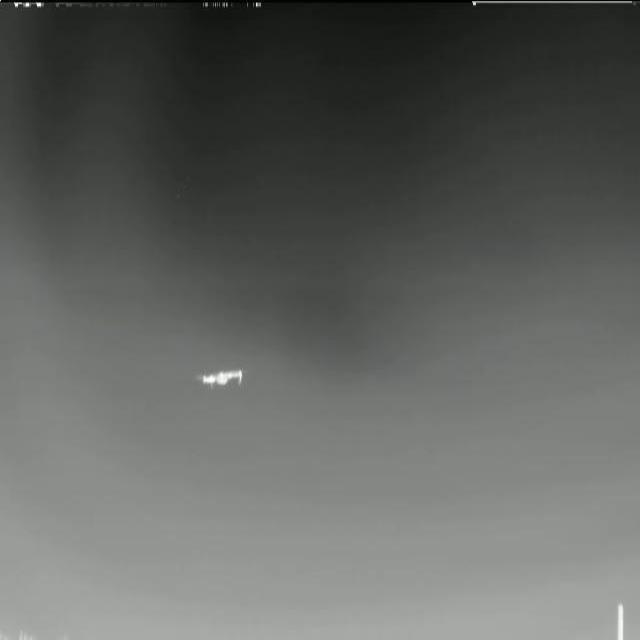DRONE: (182, 362, 252, 394)
